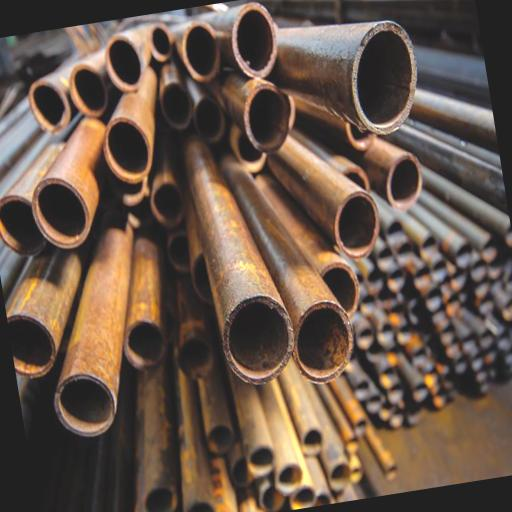segmentation: (196, 141, 365, 380), (50, 8, 231, 193), (179, 128, 302, 390), (258, 121, 399, 266), (51, 218, 136, 438), (21, 108, 119, 253), (19, 119, 116, 253), (330, 105, 438, 215), (123, 236, 165, 368), (102, 90, 157, 184), (26, 76, 75, 133)
